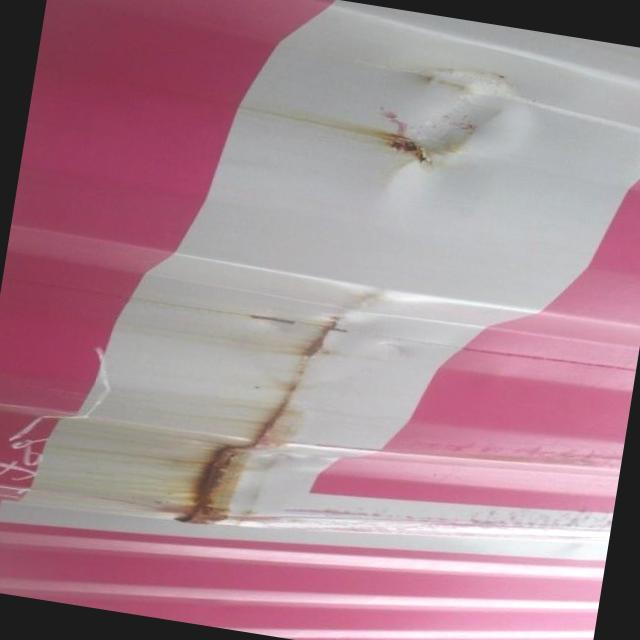dent: (32, 222, 499, 601)
